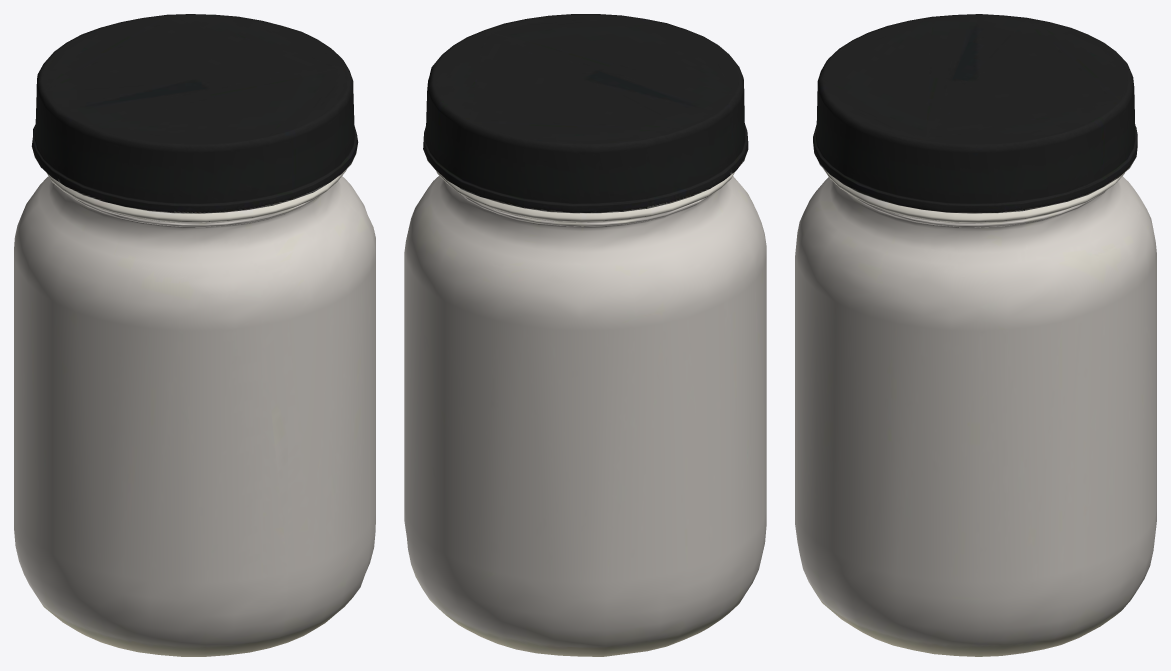
File: 019f4e23-c035-719e-93dc-5747ecd35f6e.glb
The picture shows the model from 3 angles, left to right: view 1: azimuth 30°, elevation 25°; view 2: azimuth 150°, elevation 25°; view 3: azimuth 270°, elevation 25°; orthographic projection.
Parts seen in each view (by area): view 1: tripo_node_cd930c52-184b-469e-a2cc-9979f98b069a; view 2: tripo_node_cd930c52-184b-469e-a2cc-9979f98b069a; view 3: tripo_node_cd930c52-184b-469e-a2cc-9979f98b069a.
Boxes of the visible parts, x1,y1,x2,y2 form: tripo_node_cd930c52-184b-469e-a2cc-9979f98b069a: [14, 14, 375, 656]; tripo_node_cd930c52-184b-469e-a2cc-9979f98b069a: [404, 14, 766, 656]; tripo_node_cd930c52-184b-469e-a2cc-9979f98b069a: [795, 14, 1156, 656].
Bounding box in the file's own units: 0.627 × 0.998 × 0.627.
Materials: 1 (1 with a texture image).
